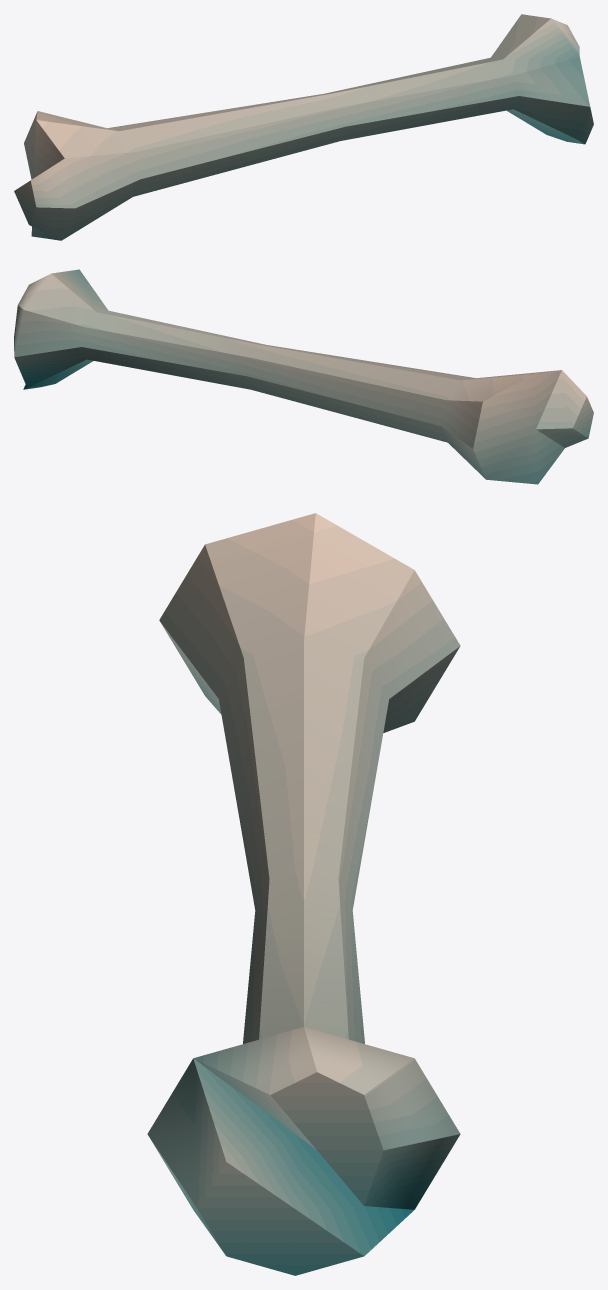
The model's file is Bone1.fbx.
3 views of the same model, one above another, from view 1: azimuth 30°, elevation 25°; view 2: azimuth 150°, elevation 25°; view 3: azimuth 270°, elevation 25° (orthographic). The views are drawn at different scales.
Visible parts, largest first — view 1: Bone1; view 2: Bone1; view 3: Bone1.
Boxes of the visible parts, x1=… form: Bone1: x1=14, y1=14, x2=593, y2=240; Bone1: x1=14, y1=269, x2=593, y2=484; Bone1: x1=147, y1=513, x2=460, y2=1275.
Bounding box in the file's own units: 3.82 × 0.9433 × 0.9674.
